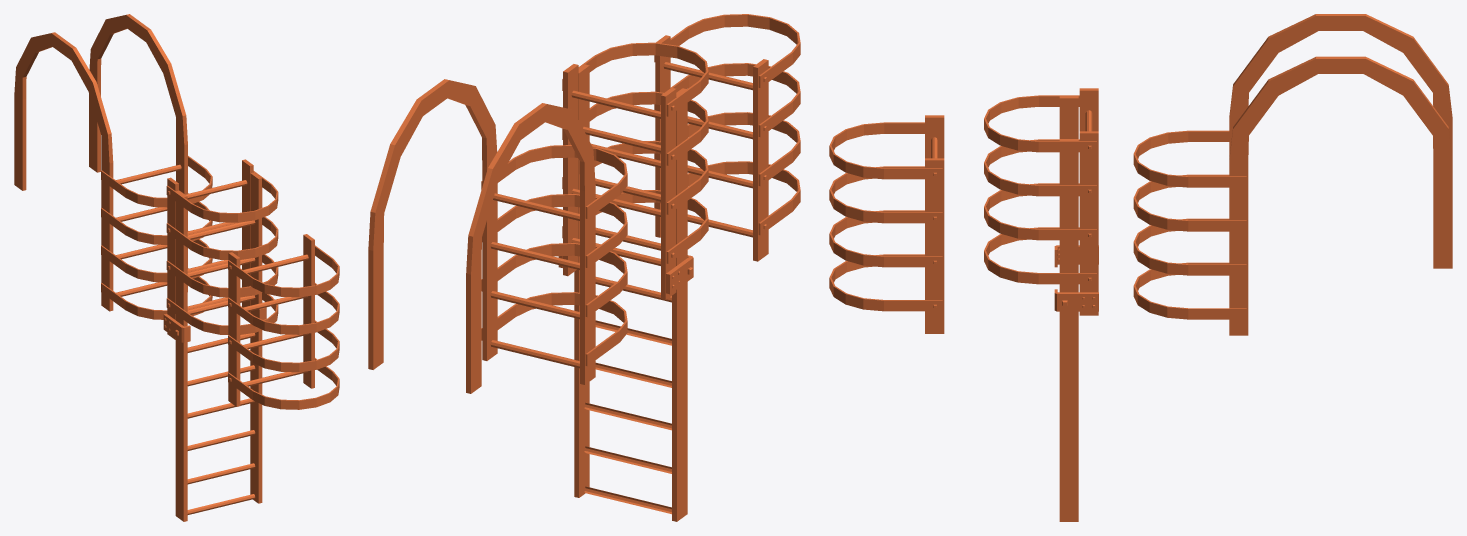
The model's file is Laddercolor.fbx.
3 renders of one model, left to right at view 1: azimuth 30°, elevation 25°; view 2: azimuth 150°, elevation 25°; view 3: azimuth 270°, elevation 25°, orthographic. The views are drawn at different scales.
Visible parts, largest first — view 1: Initial unit, End unit, Middle unit; view 2: End unit, Initial unit, Middle unit; view 3: End unit, Initial unit, Middle unit.
Part boxes in pixels (box(x1,y1,x2,y2)): Initial unit: box(163, 159, 278, 521); End unit: box(14, 14, 212, 319); Middle unit: box(228, 234, 339, 409); End unit: box(368, 79, 627, 393); Initial unit: box(558, 42, 708, 521); Middle unit: box(654, 14, 800, 261); End unit: box(1133, 14, 1452, 335); Initial unit: box(984, 88, 1098, 521); Middle unit: box(829, 115, 944, 333).
Size of the model in its own units: 127 by 525 by 642.
